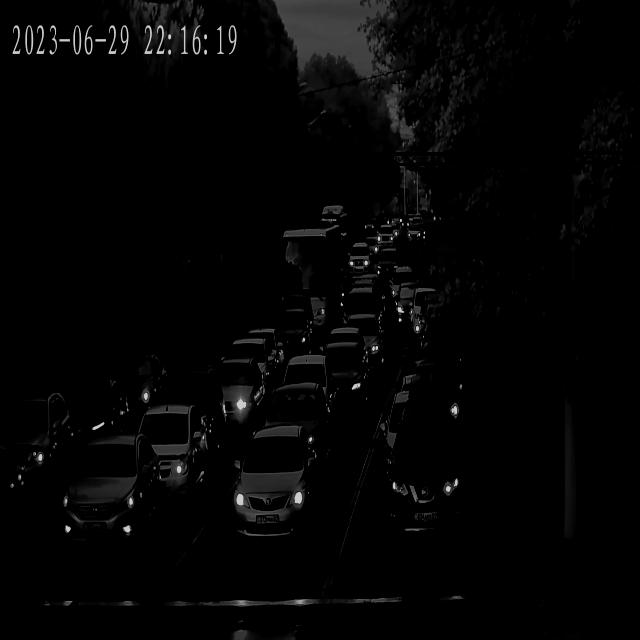Bus: (282, 224, 346, 325), (320, 207, 349, 243)
Car: (384, 396, 470, 547), (60, 434, 164, 552), (235, 431, 318, 546), (252, 384, 335, 484), (126, 406, 209, 504), (0, 390, 72, 501), (152, 372, 227, 455), (388, 372, 464, 441), (295, 343, 367, 414), (105, 351, 171, 426), (271, 354, 337, 424), (199, 362, 267, 426), (402, 353, 465, 411), (222, 337, 280, 393), (0, 443, 26, 553), (324, 328, 374, 382), (413, 302, 469, 348), (263, 308, 316, 355), (402, 290, 452, 338), (418, 329, 471, 374), (339, 286, 386, 336), (387, 268, 426, 312), (376, 254, 406, 282), (348, 244, 371, 270), (376, 246, 401, 268), (406, 230, 424, 248), (359, 237, 377, 255), (378, 228, 394, 246)
